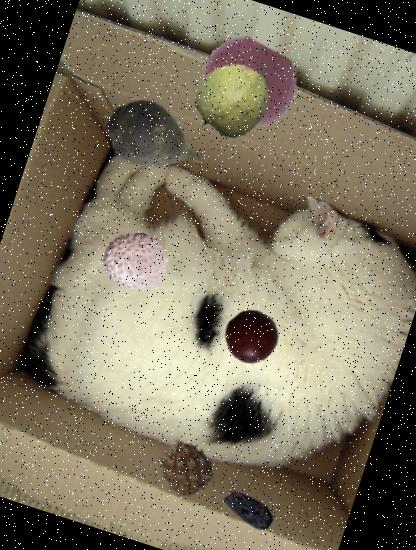Beetroot: (88, 74, 222, 208)
Cherry: (218, 302, 284, 369)
Dates: (214, 475, 283, 543)
Limes: (185, 51, 282, 148)
Lychee: (93, 221, 177, 305)
Pineapple: (148, 432, 221, 505)
Redcurrant: (186, 27, 306, 147)
